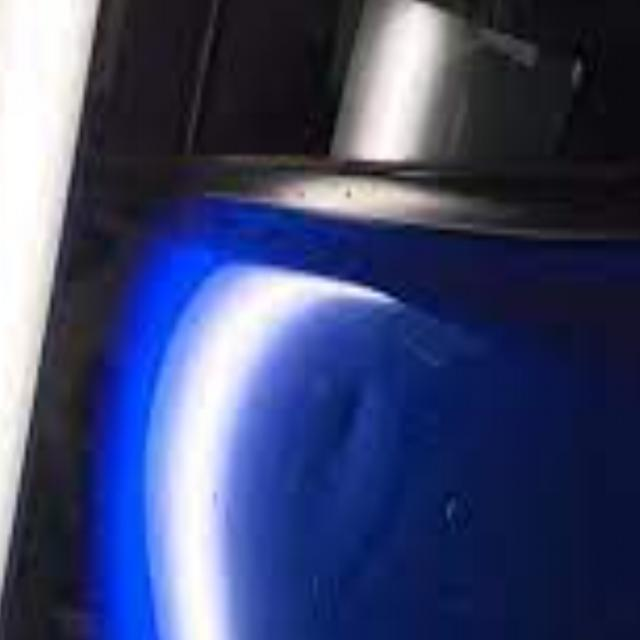dents: (292, 358, 428, 553)
